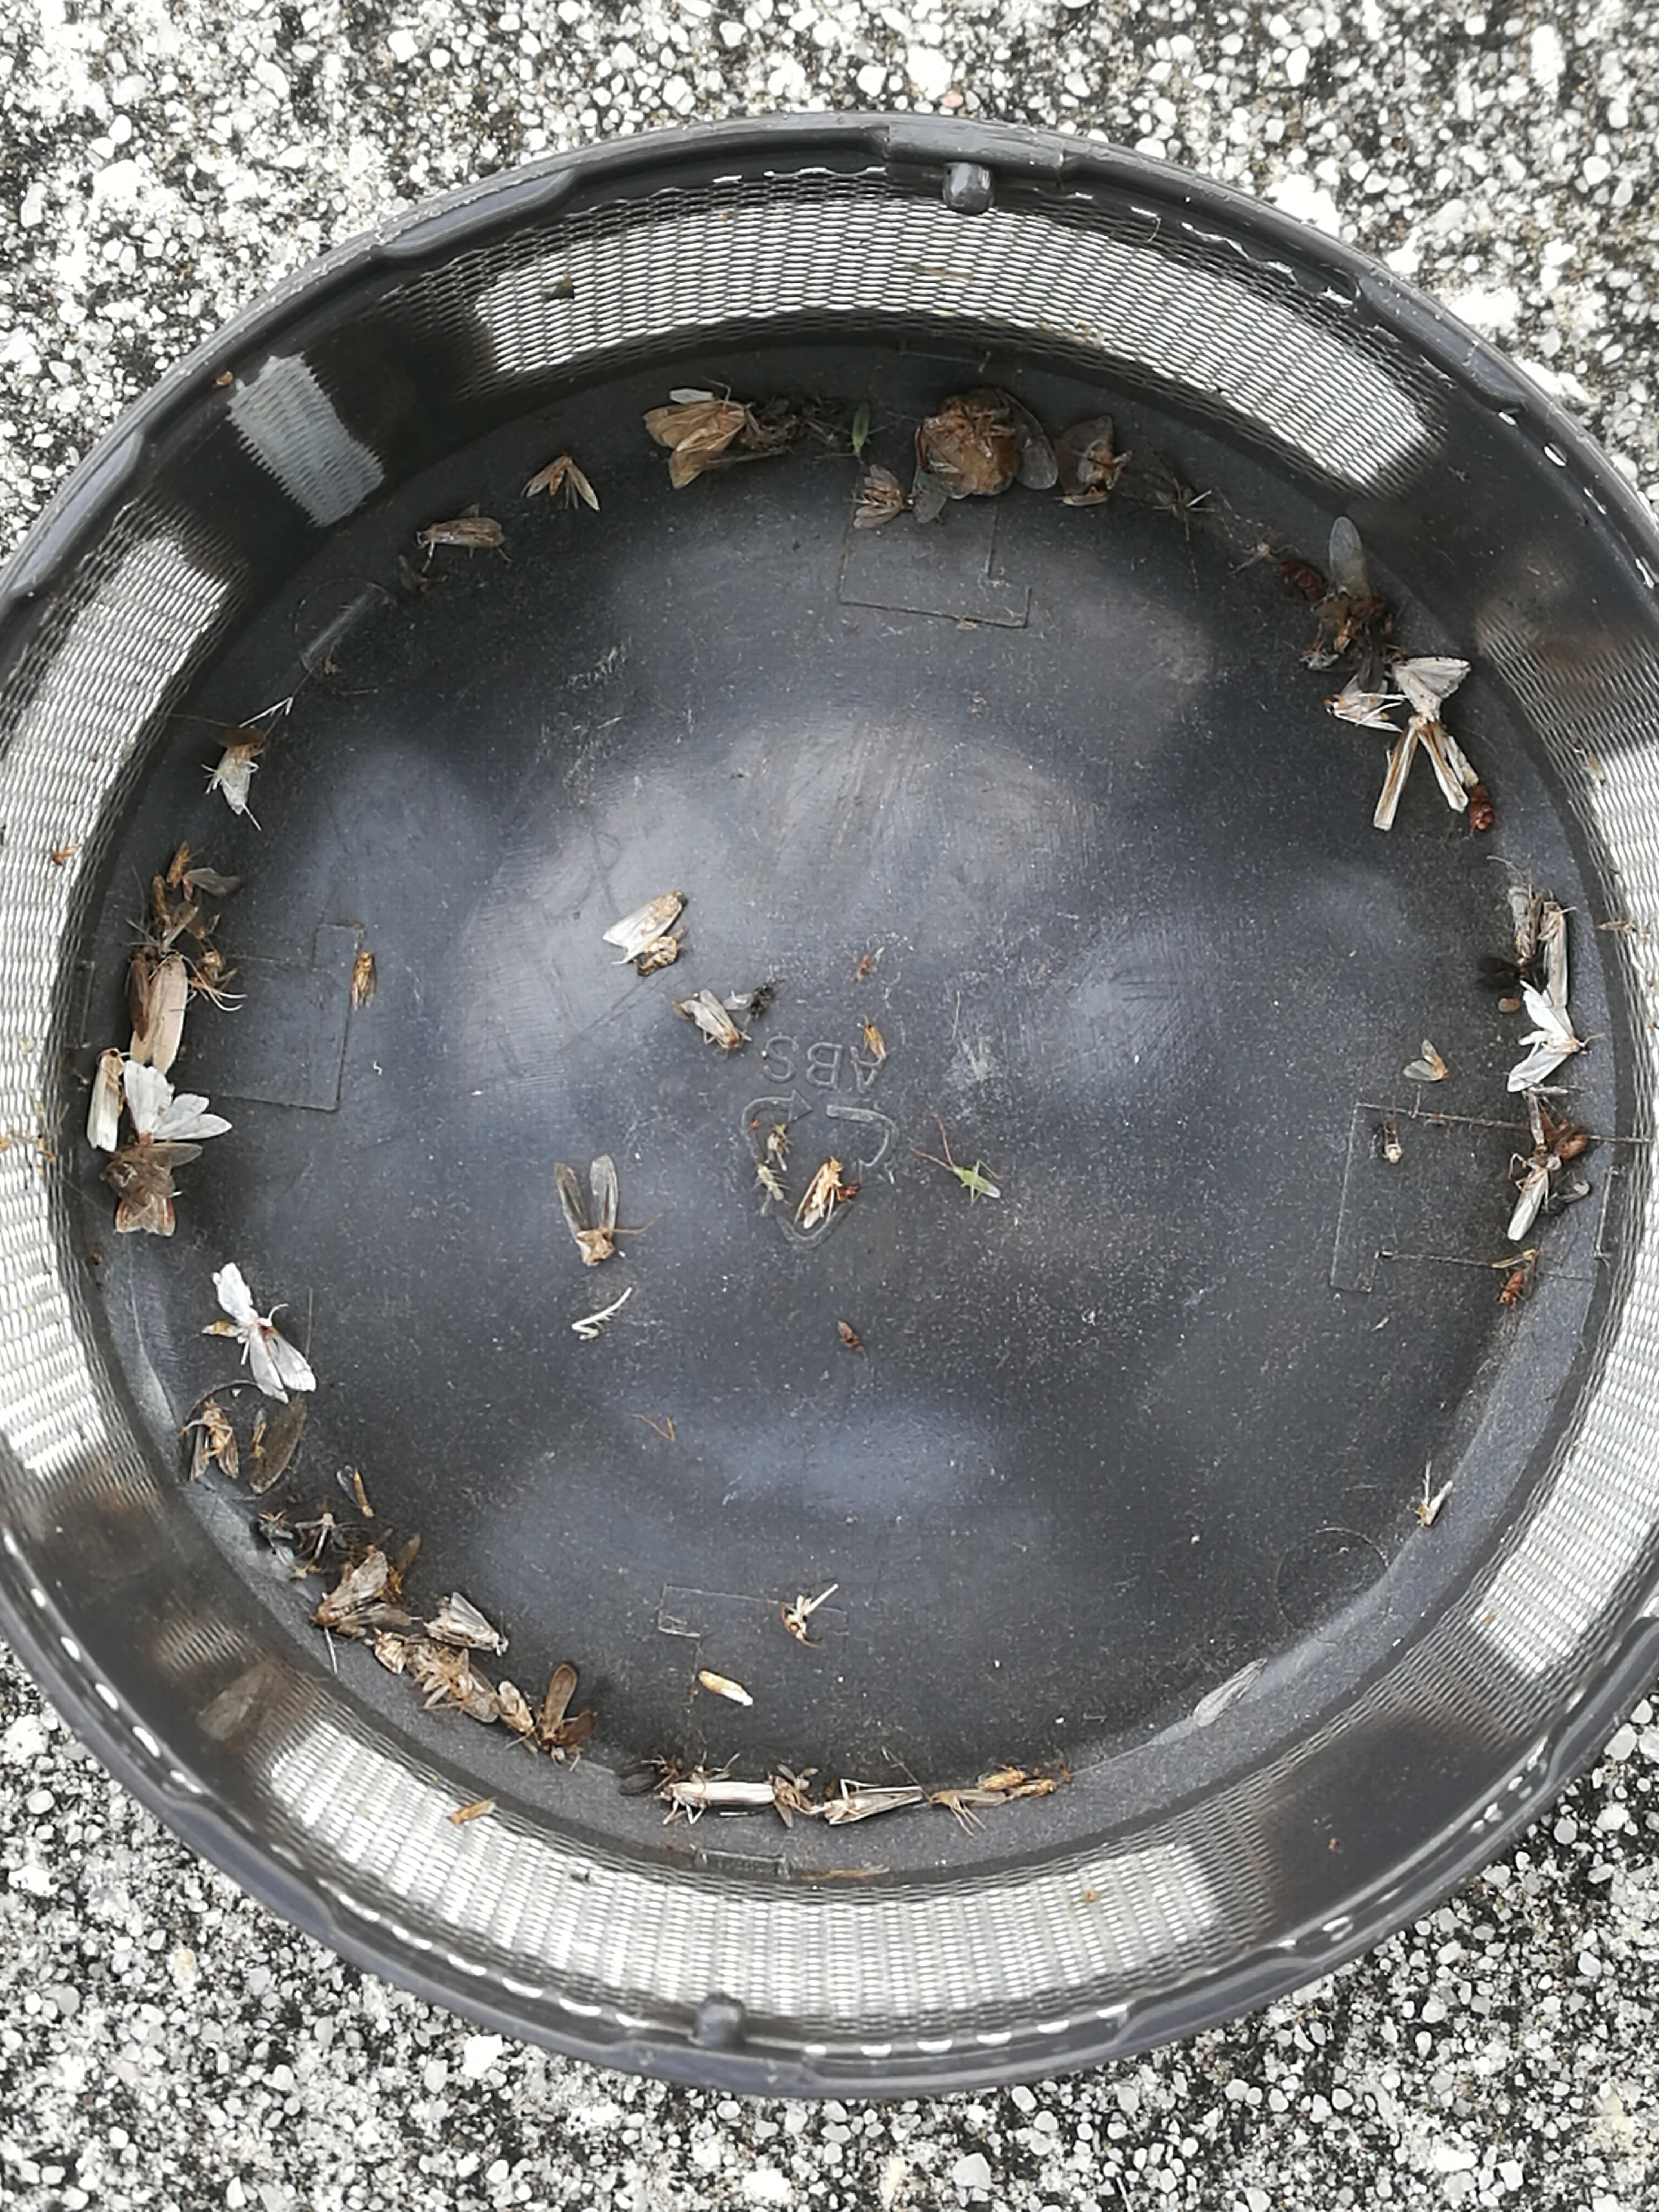beetle: (915, 390, 1019, 495)
mosquito: (132, 954, 188, 1073), (603, 890, 685, 953), (824, 1785, 924, 1824), (681, 989, 741, 1052), (1509, 1157, 1549, 1240), (1541, 900, 1568, 1008), (796, 1160, 840, 1228), (666, 1784, 775, 1806), (132, 956, 148, 1040), (931, 1789, 1004, 1804)
moth: (200, 1263, 315, 1402), (643, 401, 748, 489), (122, 1061, 230, 1141), (1506, 982, 1577, 1092), (314, 1554, 411, 1627), (1391, 655, 1469, 723), (429, 1592, 509, 1656), (1054, 415, 1114, 495), (1324, 674, 1401, 733), (525, 455, 601, 512), (122, 1143, 200, 1191), (117, 1169, 174, 1235), (190, 1402, 237, 1482), (206, 740, 251, 815), (852, 465, 903, 528), (1403, 1040, 1445, 1082)
